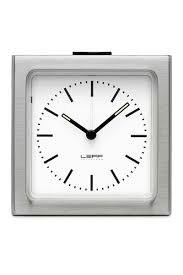alarm_clock: (9, 48, 175, 216)
